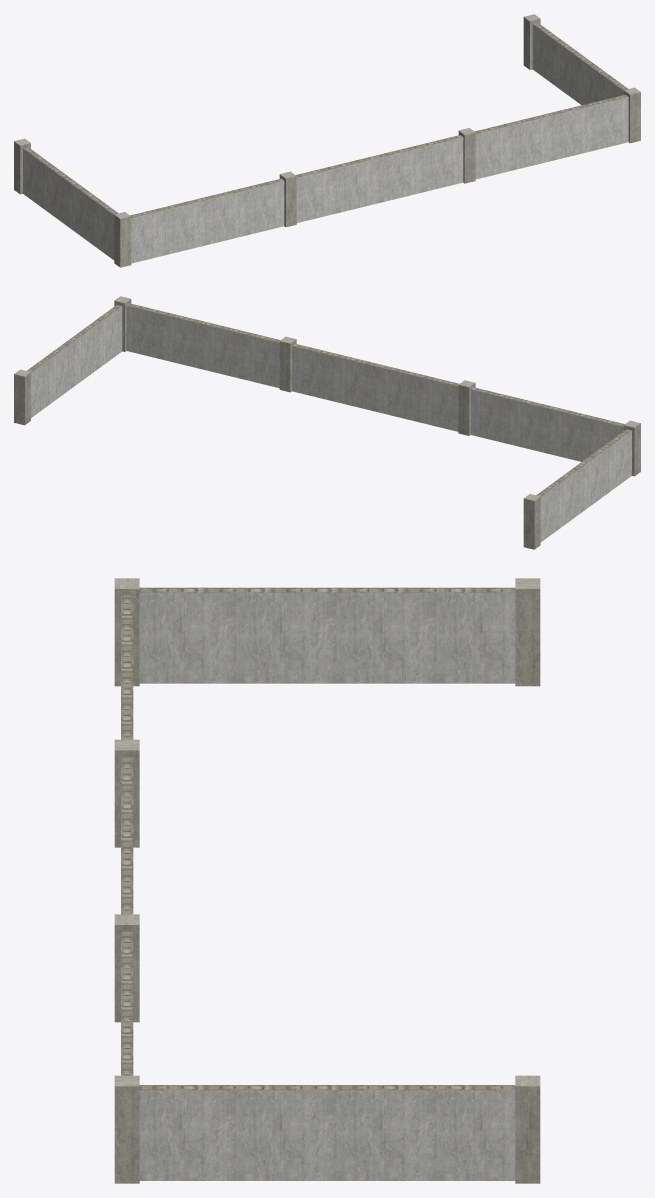
File: poi_corl_corral_half_64x64_s04_l0.fbx
3 renders of one model, top to bottom at view 1: azimuth 30°, elevation 25°; view 2: azimuth 150°, elevation 25°; view 3: azimuth 270°, elevation 25°, orthographic. The views are drawn at different scales.
Visible parts, largest first — view 1: mesh_node; view 2: mesh_node; view 3: mesh_node.
Boxes of the visible parts, x1,y1,x2,y2 form: mesh_node: [14, 14, 640, 267]; mesh_node: [14, 296, 640, 549]; mesh_node: [114, 578, 540, 1183].
Size of the model in its own units: 48 by 4.29 by 17.
